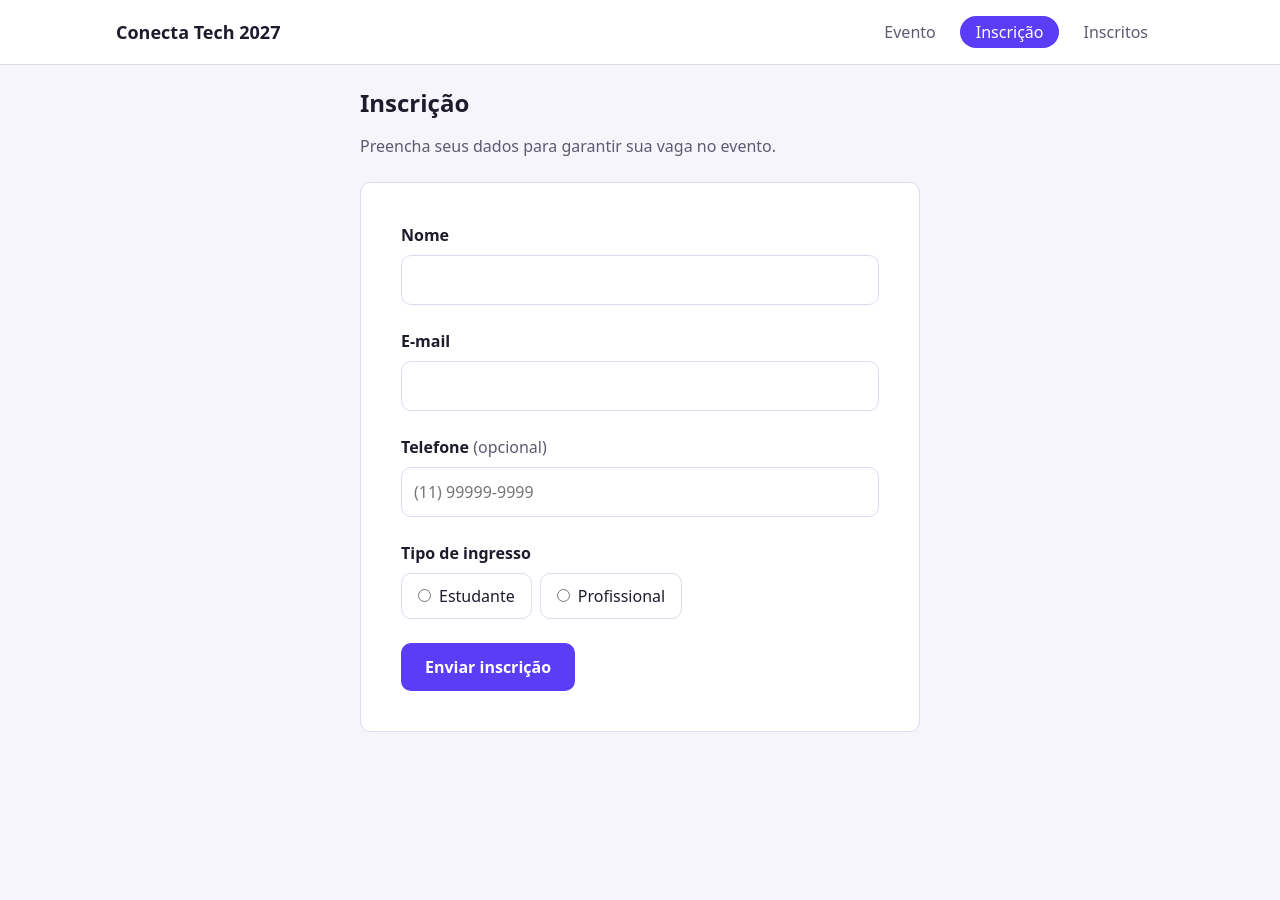
Test: formulário de inscrição › REQ-FE-15: depois do sucesso, mostra a confirmação com o nome e o link para inscritos e limpa o formulário
The image size is (1280, 900).
Step 1. Type "Maria Silva" into the field labelled "Nome" → (640, 280), box [401,255,879,305]
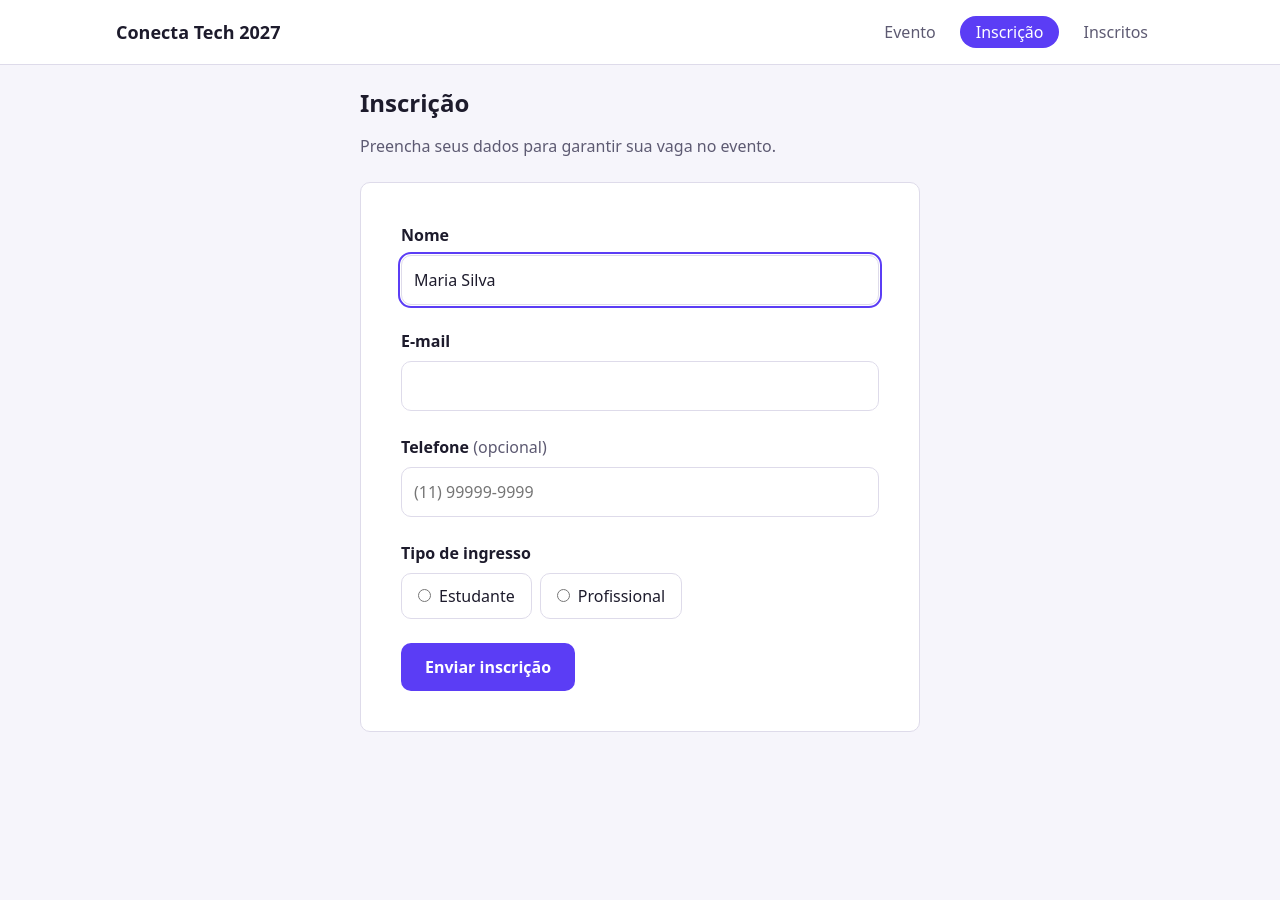
Step 2. Type "maria@email.com" into the field labelled "E-mail" → (640, 386), box [401,361,879,411]
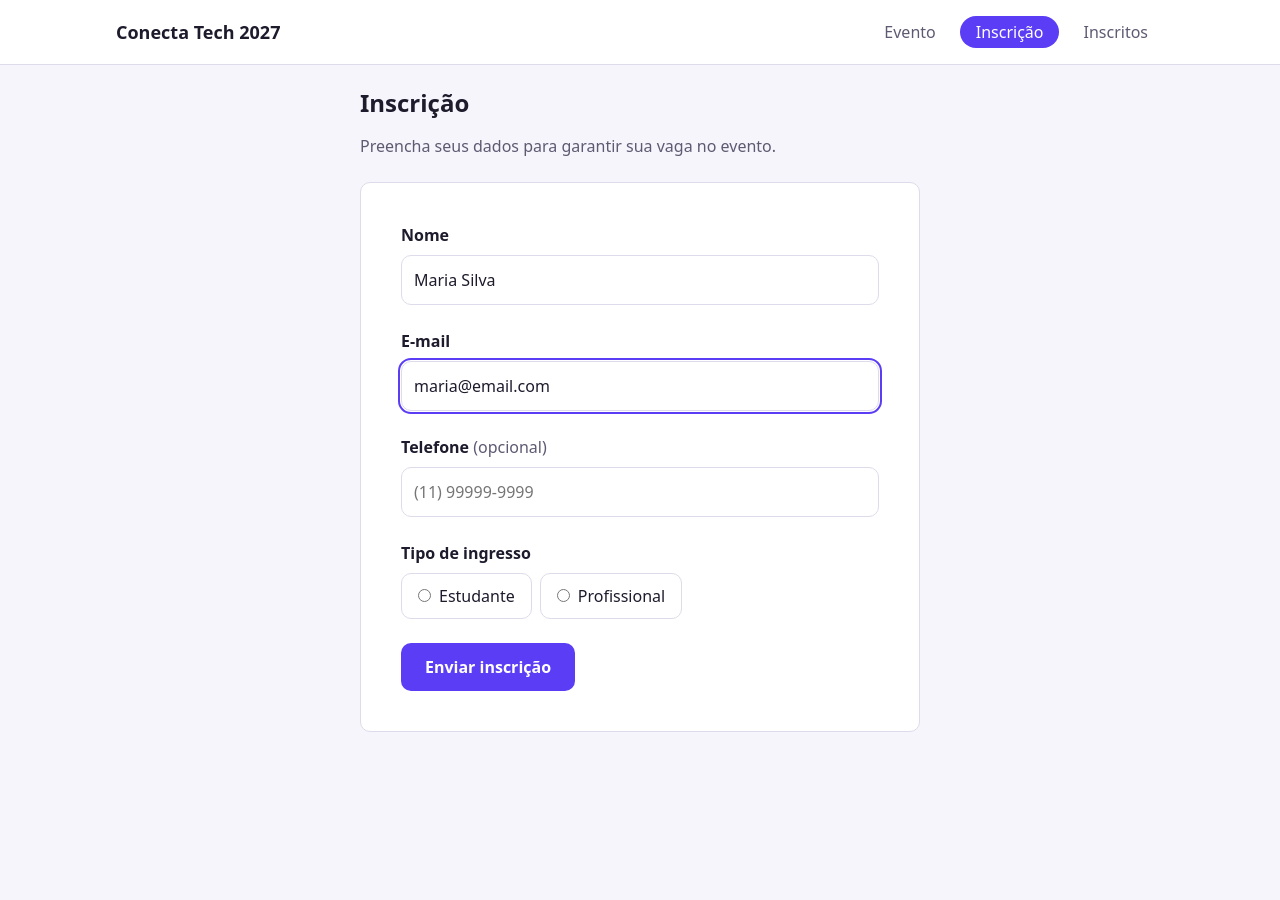
Step 3. Click the radio button labelled "Estudante" → (424, 596), box [418,589,431,602]
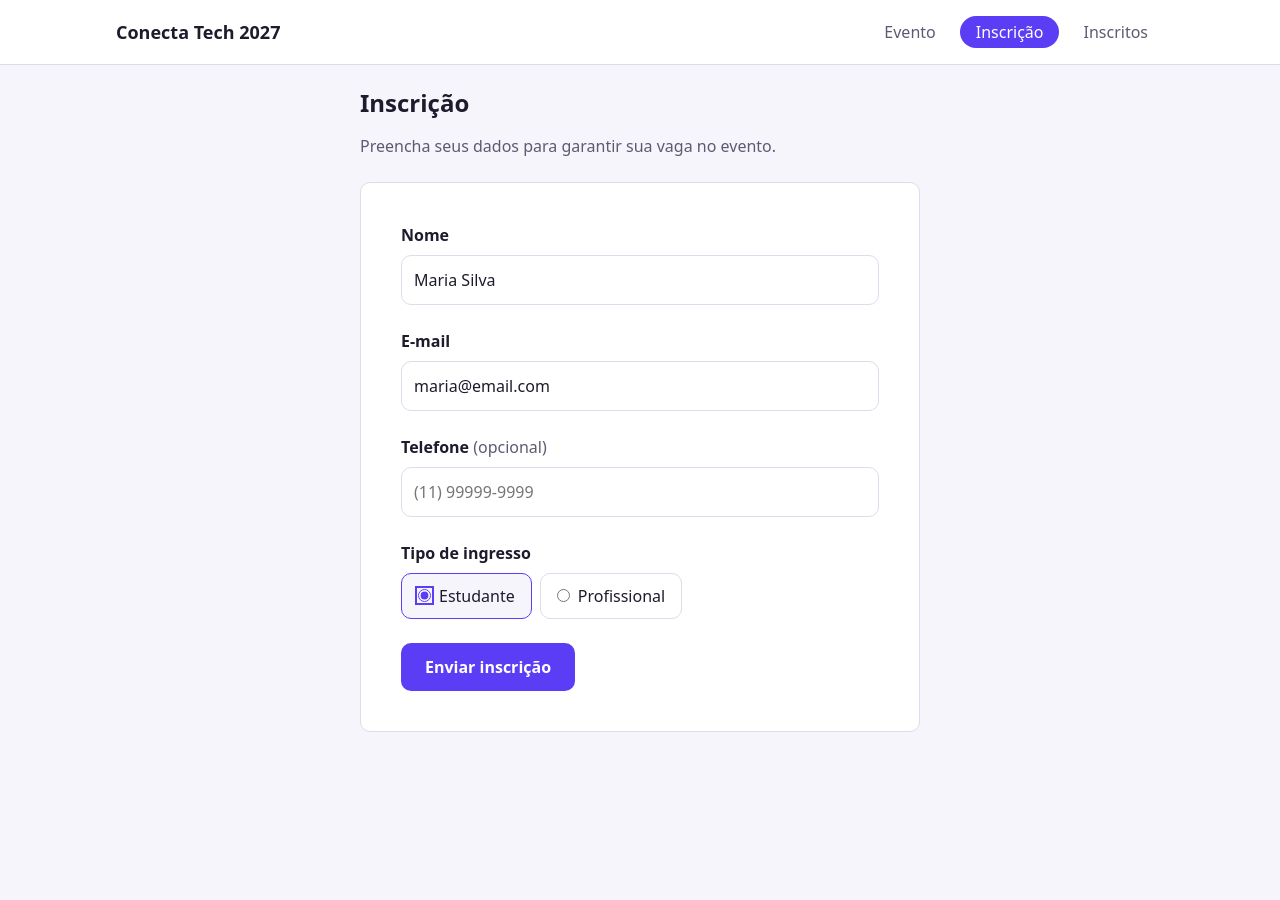
Step 4. Click the button "Enviar inscrição" → (488, 667), box [401,643,575,691]
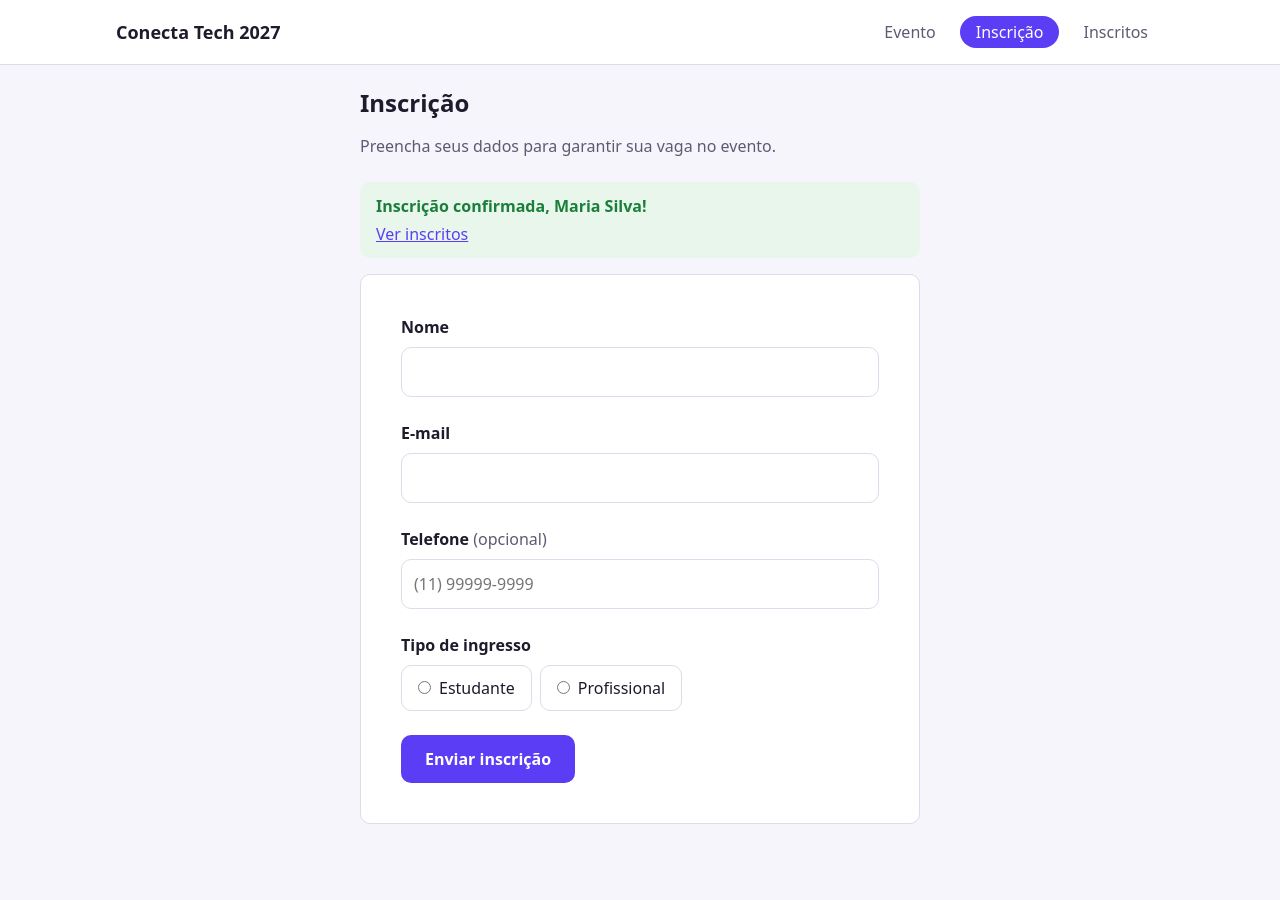
Expected: the message shows "Inscrição confirmada, Maria Silva!", [360,182,920,258]
Expected: the field labelled "Nome" is empty, [401,347,879,397]
Expected: the field labelled "E-mail" is empty, [401,453,879,503]
